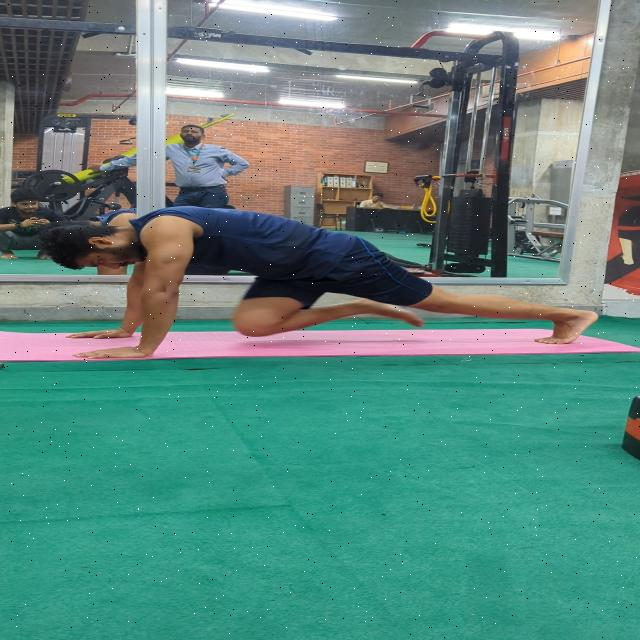Normal_MountainClimbers: (36, 205, 598, 369)
